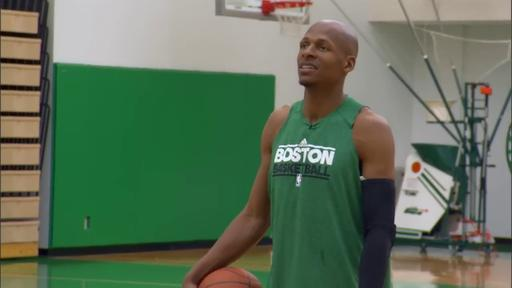ball: (198, 266, 262, 288)
human: (183, 19, 396, 287)
rim: (263, 0, 311, 36)
